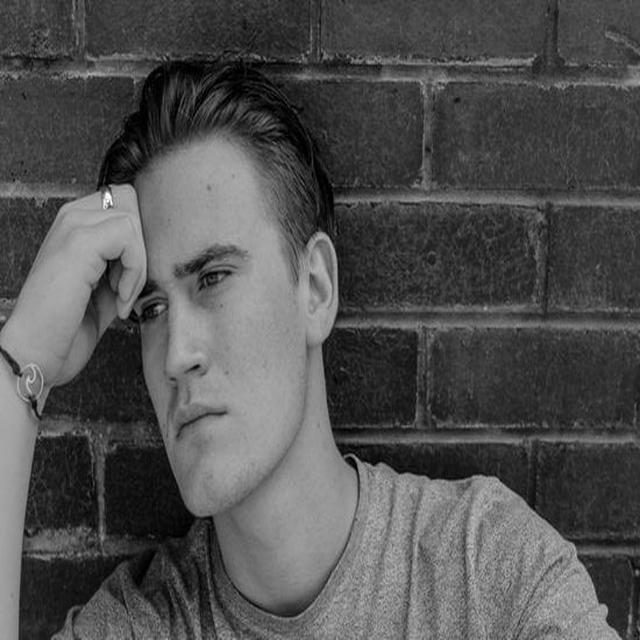Sadness: (135, 153, 291, 517)
